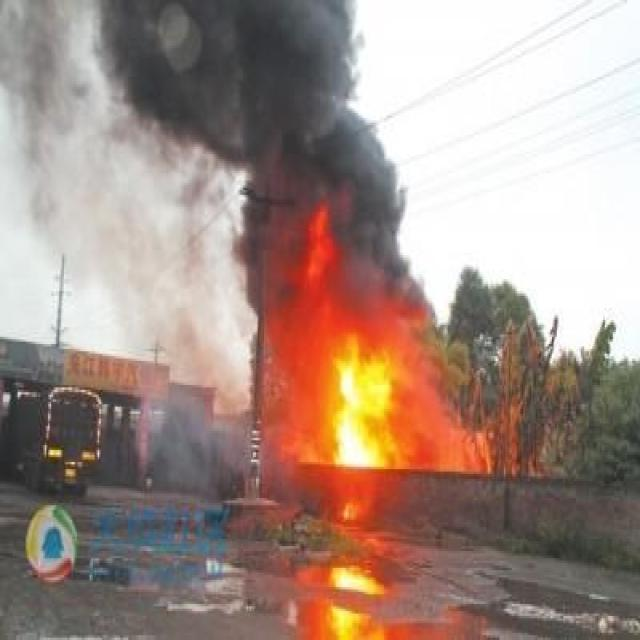fire: (318, 327, 399, 475)
other: (53, 343, 170, 402), (316, 526, 378, 633), (17, 500, 80, 587), (46, 432, 90, 483)
smoke: (237, 137, 433, 332), (103, 6, 356, 151), (1, 11, 90, 177)
